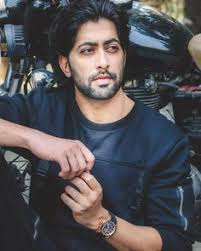Indian_Male: (71, 17, 128, 95)
